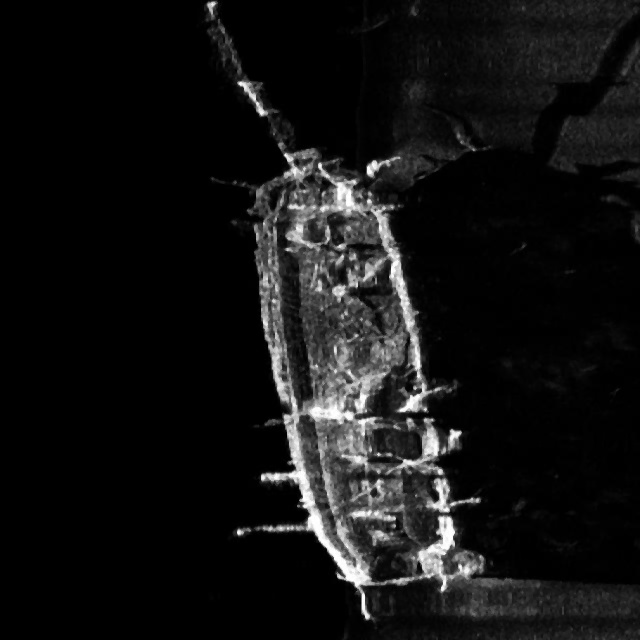Ship: (189, 1, 514, 631)
